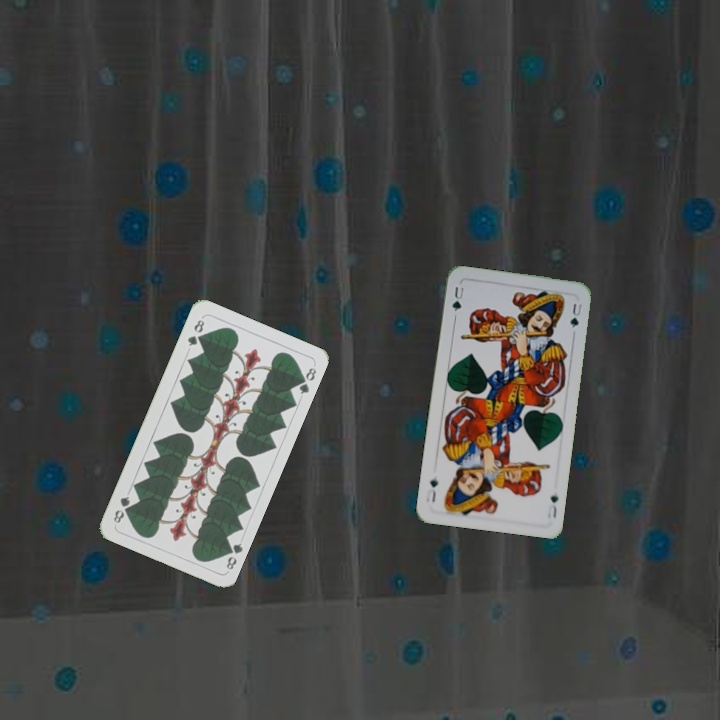G8: (183, 315, 207, 349), (221, 539, 245, 572)
GU: (448, 282, 466, 314), (543, 491, 561, 521)
